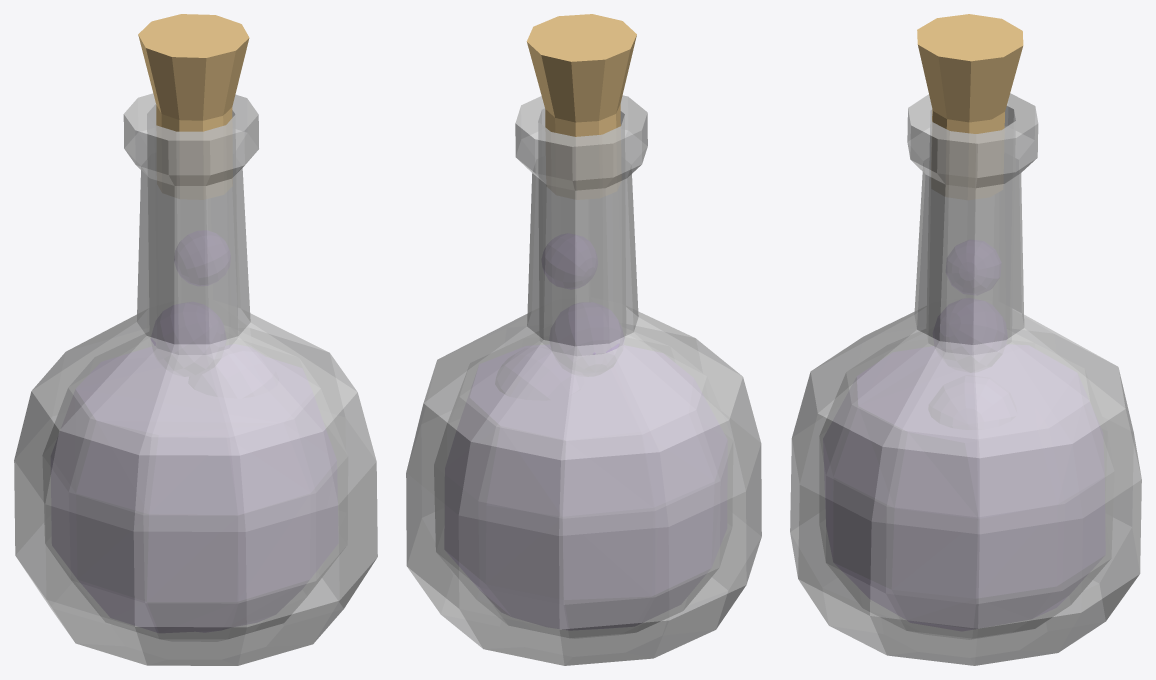
The model's file is newPotion.fbx.
3 renders of one model, left to right at view 1: azimuth 30°, elevation 25°; view 2: azimuth 150°, elevation 25°; view 3: azimuth 270°, elevation 25°, orthographic.
Visible parts, largest first — view 1: group_2068853349; view 2: group_2068853349; view 3: group_2068853349.
Boxes of the visible parts, left/top/right/bottom form: group_2068853349: left=14, top=14, right=377, bottom=665; group_2068853349: left=406, top=14, right=761, bottom=665; group_2068853349: left=790, top=14, right=1141, bottom=665.
Bounding box in the file's own units: 56.9 × 102 × 55.6.
